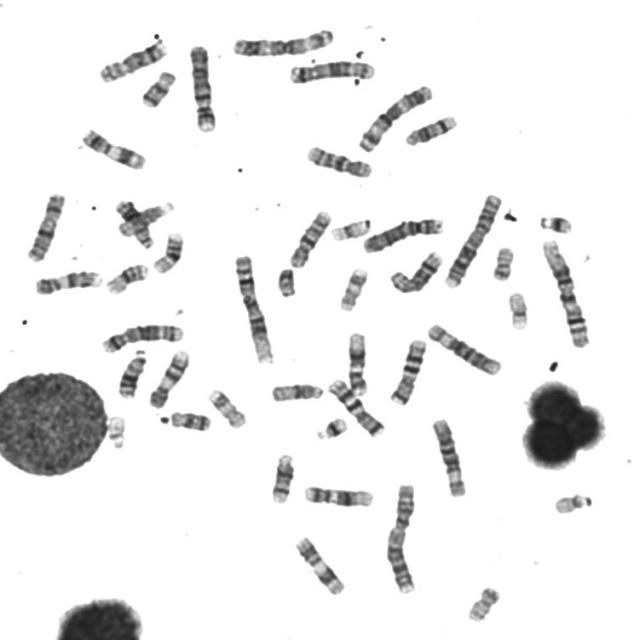A1: (538, 236, 592, 350), (230, 250, 276, 365)
A2: (440, 189, 504, 290), (383, 479, 420, 595)
A3: (354, 80, 436, 154), (228, 24, 336, 58)
B4: (360, 213, 446, 255), (186, 41, 218, 133)
B5: (99, 320, 186, 354), (286, 56, 376, 85)
C10: (286, 206, 334, 269), (302, 141, 375, 180)
C11: (292, 532, 348, 597), (78, 124, 148, 171)
C12: (300, 481, 376, 509), (343, 328, 371, 397)
C6: (424, 319, 504, 378), (428, 414, 470, 499)
C7: (325, 375, 387, 438), (386, 335, 429, 406)
C8: (94, 36, 168, 84), (386, 247, 445, 295)
C9: (145, 346, 192, 410), (31, 266, 104, 296)
D13: (112, 196, 156, 250), (114, 346, 149, 400)
D14: (400, 111, 460, 148), (266, 450, 296, 505)
D15: (115, 198, 177, 238), (268, 379, 326, 404)
E16: (102, 259, 150, 296), (149, 228, 186, 274)
E17: (204, 385, 249, 430), (336, 264, 370, 313)
E18: (137, 67, 177, 109), (166, 407, 213, 433)
F19: (504, 287, 532, 331), (328, 215, 372, 242)
F20: (463, 583, 502, 623), (488, 242, 516, 282)
G21: (312, 414, 349, 442), (535, 211, 576, 235)
G22: (551, 488, 593, 516), (104, 411, 129, 450)
X: (22, 188, 67, 264)
Y: (274, 265, 298, 298)
